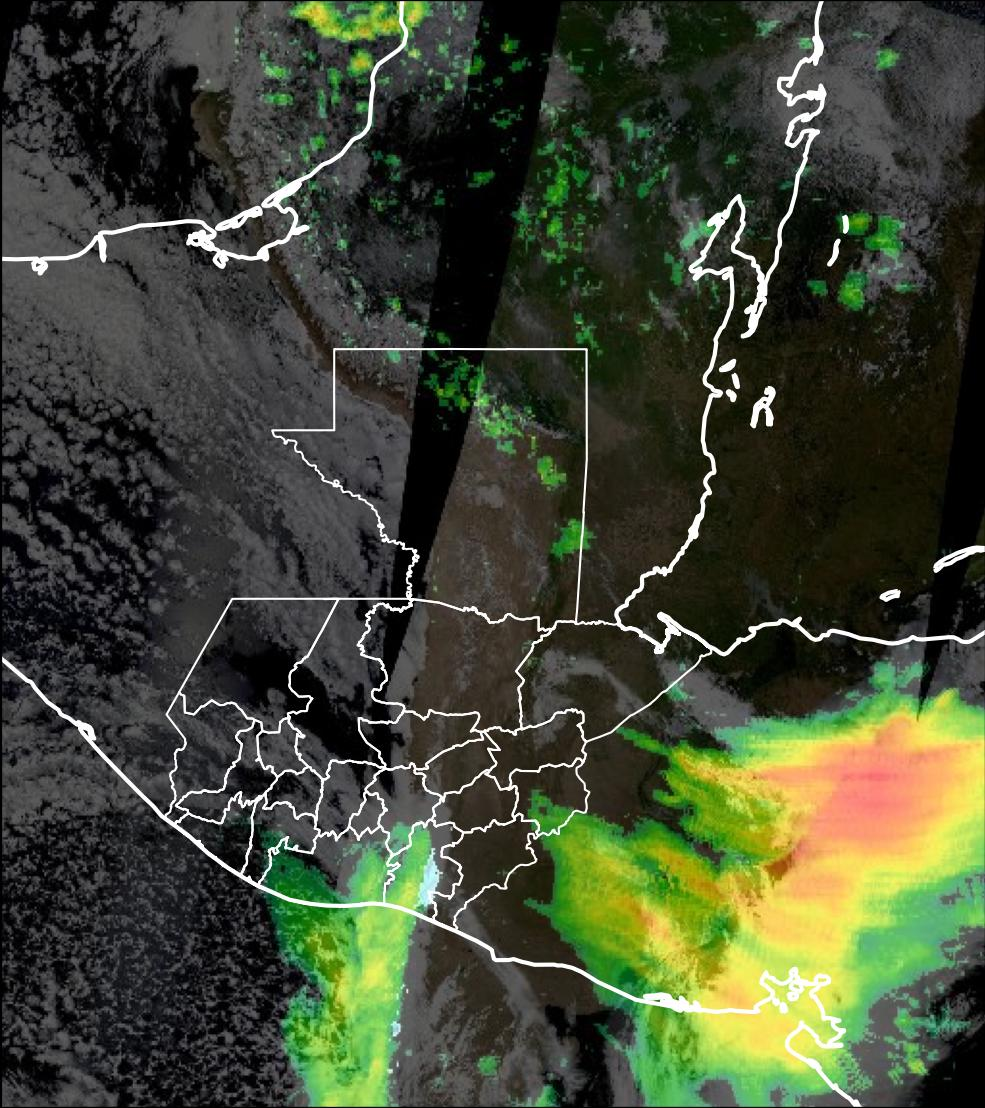precipitacion: (716, 696, 985, 874)
